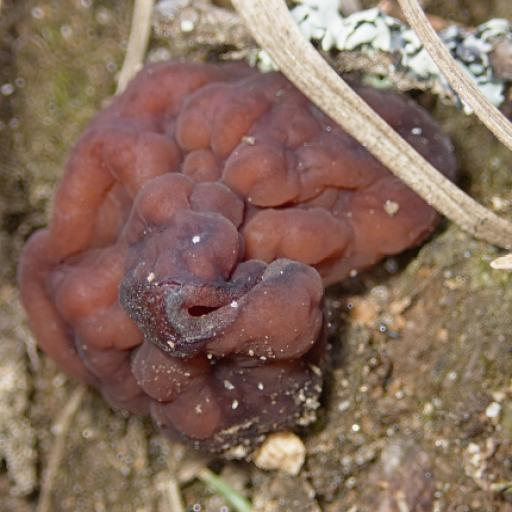False Morel: (0, 15, 440, 484)
